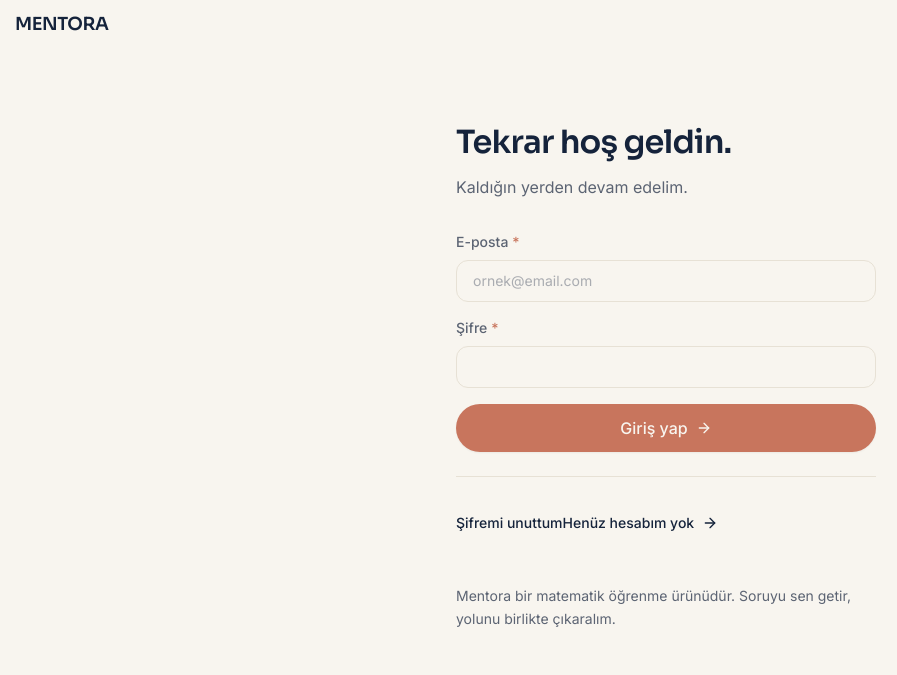
it: AuthScreen › shows a calm message when the credentials are wrong
The width and height of the screenshot is (897, 675).
In the field labelled "E-posta*": point(666, 281) [456,260,876,302], type "ayse@example.com"
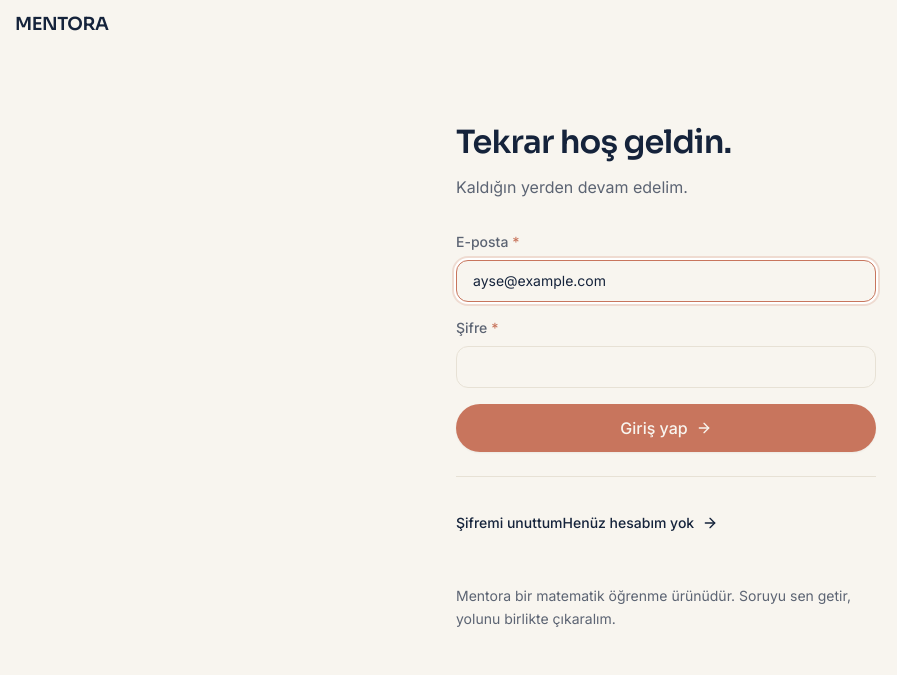
In the password field labelled "Şifre*": point(666, 367) [456,346,876,388], type "Yanlis!Sifre1"
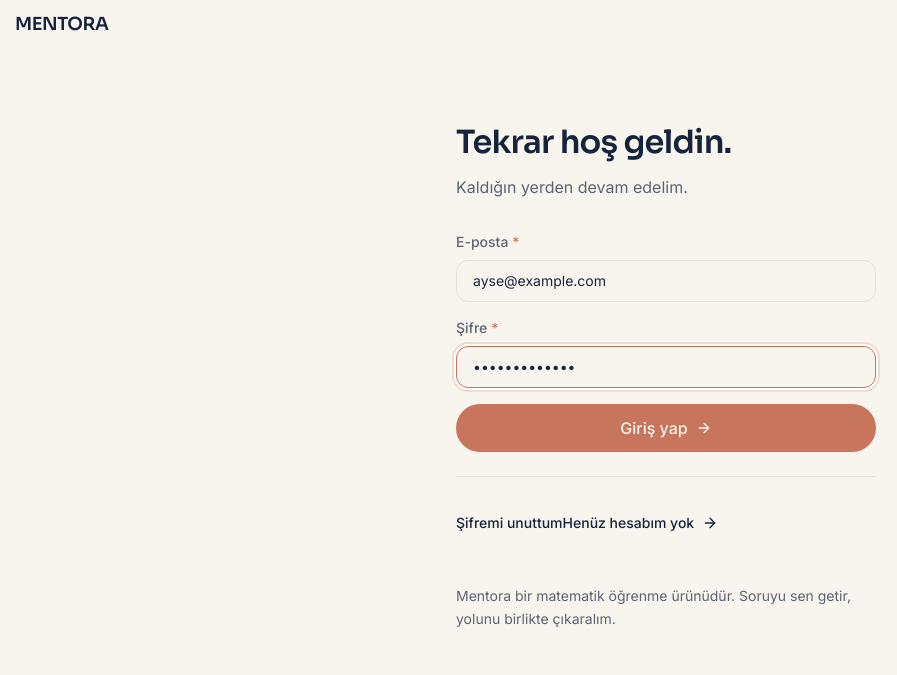
Click the button "Giriş yap": point(666, 428) [456,404,876,452]
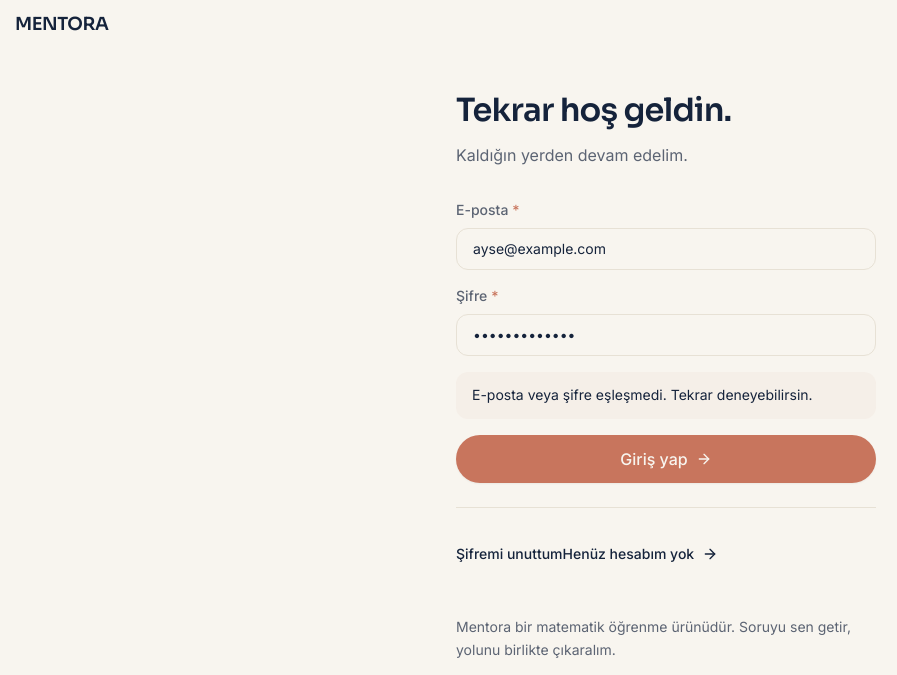
Expected: the message shows "E-posta veya şifre eşleşmedi", [472,386,813,403]
